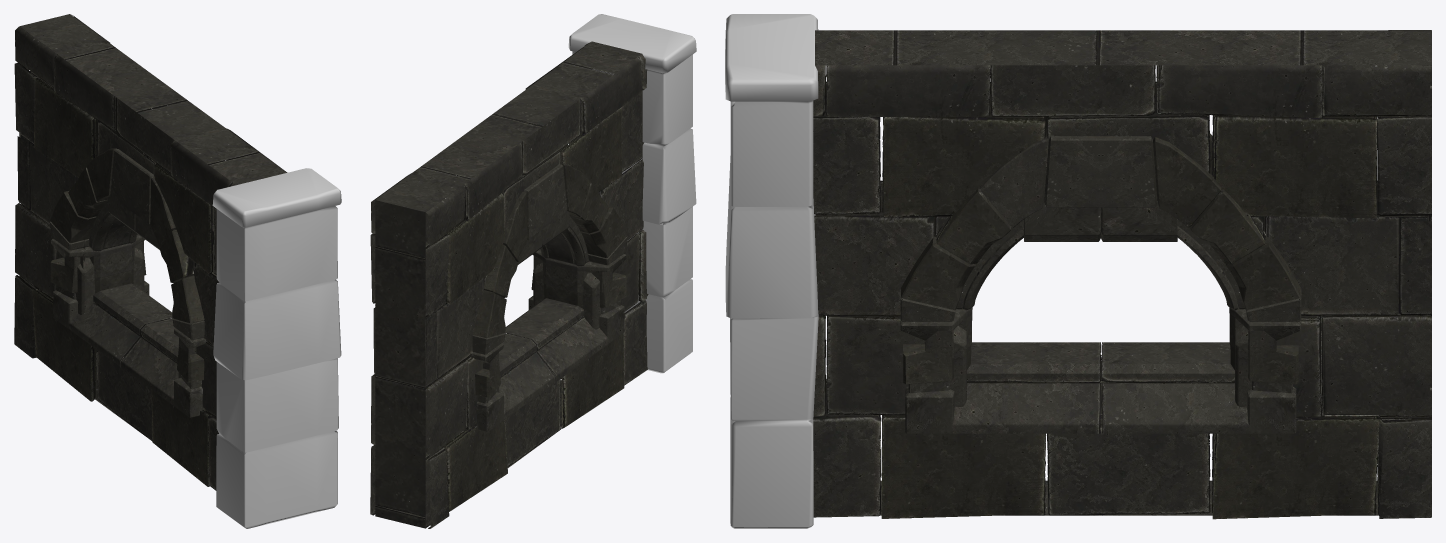
3 renders of one model, left to right at view 1: azimuth 30°, elevation 25°; view 2: azimuth 150°, elevation 25°; view 3: azimuth 270°, elevation 25°, orthographic. The views are drawn at different scales.
Parts seen in each view (by area): view 1: SM_Greathall_Wall_8x6_01_Overflow_LOD0; view 2: SM_Greathall_Wall_8x6_01_Overflow_LOD0; view 3: SM_Greathall_Wall_8x6_01_Overflow_LOD0.
Boxes of the visible parts, left/top/right/bottom form: SM_Greathall_Wall_8x6_01_Overflow_LOD0: left=14, top=14, right=341, bottom=528; SM_Greathall_Wall_8x6_01_Overflow_LOD0: left=370, top=14, right=696, bottom=528; SM_Greathall_Wall_8x6_01_Overflow_LOD0: left=725, top=14, right=1431, bottom=528.
Size of the model in its own units: 1.99 by 6.02 by 8.53.
